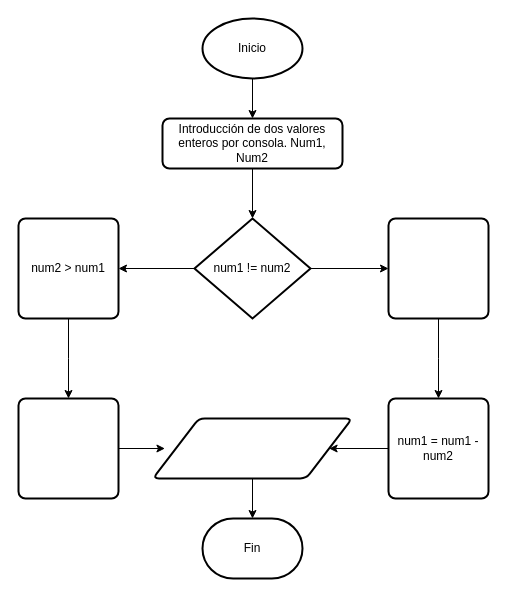
The diagram is 506 pixels wide and 596 high, and some of its shapes have lost their labels. Each missing label, with the centre of its shape:
Imprimir en pantalla "El MCD es " + num1: (252,448)
num1 = num2 - num1: (68,448)
num1 > num2: (438,268)
